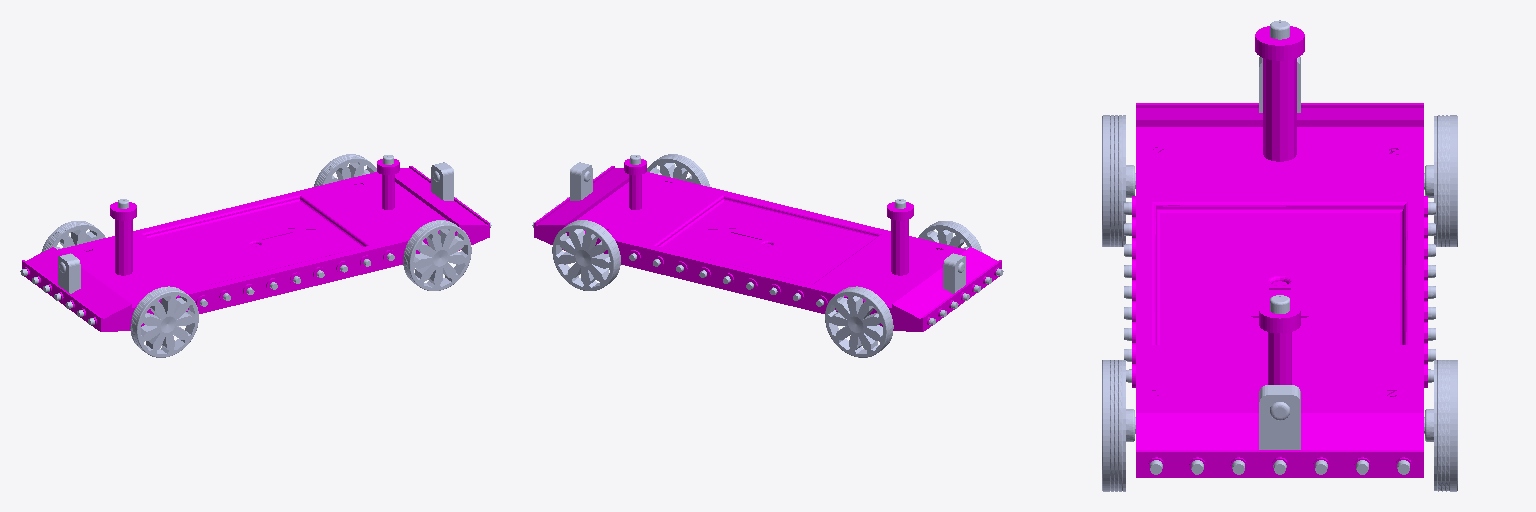
--- Facts derived from the render (not from the file) ---
Views: 3 orthographic renders of the robot side by side, from view 1: azimuth 30°, elevation 25°; view 2: azimuth 150°, elevation 25°; view 3: azimuth 270°, elevation 25°.
Robot: rover_proto_A1_rviz — 15 links, 14 joints (4 continuous, 10 fixed); root link base_link; default pose: all joints at 0.
Visible links, largest first — view 1: Chassis, Wheel_4_Link, Wheel_1_Link, Wheel_2_Link, Wheel_3_Link, Camera_Back_Link, Camera_Fwd_Link; view 2: Chassis, Wheel_3_Link, Wheel_2_Link, Wheel_1_Link, Wheel_4_Link, Camera_Back_Link, Camera_Fwd_Link; view 3: Chassis, Wheel_1_Link, Wheel_2_Link, Wheel_4_Link, Wheel_3_Link, Camera_Fwd_Link, Lights_Fwd_Link, Lights_Right_Link, Lights_Left_Link.
Link boxes in pixels (left/top/right/bottom): Chassis: left=22, top=159, right=489, bottom=331; Wheel_4_Link: left=130, top=286, right=198, bottom=357; Wheel_1_Link: left=403, top=220, right=471, bottom=290; Wheel_2_Link: left=314, top=154, right=376, bottom=186; Wheel_3_Link: left=41, top=221, right=105, bottom=252; Camera_Back_Link: left=58, top=253, right=80, bottom=293; Camera_Fwd_Link: left=431, top=162, right=453, bottom=200; Chassis: left=534, top=159, right=1001, bottom=331; Wheel_3_Link: left=825, top=286, right=893, bottom=357; Wheel_2_Link: left=552, top=220, right=620, bottom=290; Wheel_1_Link: left=647, top=154, right=709, bottom=186; Wheel_4_Link: left=918, top=221, right=982, bottom=252; Camera_Back_Link: left=943, top=253, right=965, bottom=293; Camera_Fwd_Link: left=570, top=162, right=592, bottom=200; Chassis: left=1132, top=26, right=1427, bottom=477; Wheel_1_Link: left=1102, top=360, right=1135, bottom=491; Wheel_2_Link: left=1424, top=360, right=1457, bottom=491; Wheel_4_Link: left=1102, top=115, right=1135, bottom=246; Wheel_3_Link: left=1424, top=115, right=1457, bottom=246; Camera_Fwd_Link: left=1259, top=385, right=1300, bottom=449; Lights_Fwd_Link: left=1150, top=460, right=1409, bottom=474; Lights_Right_Link: left=1124, top=202, right=1131, bottom=382; Lights_Left_Link: left=1428, top=202, right=1435, bottom=382.
Bounding box of the posed robot: 1.03 × 0.432 × 0.295 m (x, y, z).
13 mesh visuals loaded from 13 distinct referenced files (11 binary STL, 2 Collada DAE).

The robot description file, URDF, robot "rover_proto_A1_rviz":
<?xml version="1.0" ?>
<!-- This URDF was automatically created by SolidWorks to URDF Exporter! Originally created by Stephen Brawner ([email redacted]) 
     Commit Version: 1.6.0-4-g7f85cfe  Build Version: 1.6.7995.38578
     For more information, please see http://wiki.ros.org/sw_urdf_exporter -->
<robot
  name="rover_proto_A1_rviz">
  <pose>0.0 0.0 0.0 0.0 0.0 0.0</pose>
  <link name="base_link"/>
  <link
    name="Chassis">
    <inertial>
      <origin
        xyz="-0.00365912647993058 -3.92554968145498E-06 -0.0261956410433819"
        rpy="0 0 0" />
      <mass
        value="17.7896117328331" />
      <inertia
        ixx="0.188123995834319"
        ixy="-3.69133382058458E-06"
        ixz="0.00394291892265975"
        iyy="1.49358440846885"
        iyz="-8.27261031196303E-06"
        izz="1.66880203354025" />
    </inertial>

    <visual>
      <origin
        xyz="0 0 0"
        rpy="0 0 0" />
      <geometry>
        <mesh
          filename="package://line_following_rover/urdf/rover_proto_A1/meshes/Chassis.dae" />
      </geometry>
      <material
        name="red">
        <color
          rgba="1.0 0.0 1.0 1" />
      </material>
    </visual>

    <collision>
      <origin
        xyz="0 0 0"
        rpy="0 0 0" />
      <geometry>
        <mesh
          filename="package://line_following_rover/urdf/rover_proto_A1/meshes/Chassis.STL" />
      </geometry>
    </collision>
  </link>

  <link
    name="Lights_Fwd_Link">
    <inertial>
      <origin
        xyz="0.507527194200393 -3.69511700598624E-06 -0.0223168195436138"
        rpy="0 0 0" />
      <mass
        value="0.0132155007740645" />
      <inertia
        ixx="3.9910662761744E-07"
        ixy="7.75490345241783E-24"
        ixz="-1.19868842711491E-23"
        iyy="3.06977336844872E-07"
        iyz="-1.18562554465934E-23"
        izz="3.06977336844872E-07" />
    </inertial>
    <visual>
      <origin
        xyz="0 0 0"
        rpy="0 0 0" />
      <geometry>
        <mesh
          filename="package://line_following_rover/urdf/rover_proto_A1/meshes/Lights_Fwd_Link.STL" />
      </geometry>
      <material
        name="">
        <color
          rgba="0.792156862745098 0.819607843137255 0.933333333333333 1" />
      </material>
    </visual>

    <!-- <light name='light_source1' type='spot'>
      <pose frame=''>0.25 0 0.25 0 -0.7854 0</pose>
      <attenuation>
        <range>30</range>
        <linear>0.05</linear>
      </attenuation>
      <diffuse>1 0 0 1</diffuse>
      <specular>1 0 0 1</specular>
      <spot>
        <inner_angle>0.3</inner_angle>
        <outer_angle>0.35</outer_angle>
        <falloff>1</falloff>
      </spot>
      <direction>0 0 -1</direction>
    </light> -->

    <collision>
      <origin
        xyz="0 0 0"
        rpy="0 0 0" />
      <geometry>
        <mesh
          filename="package://line_following_rover/urdf/rover_proto_A1/meshes/Lights_Fwd_Link.STL" />
      </geometry>
    </collision>
  </link>

  <joint
    name="Lights_Fwd_Joint"
    type="fixed">
    <origin
      xyz="0 0 0"
      rpy="0 0 0" />
    <parent
      link="Chassis" />
    <child
      link="Lights_Fwd_Link" />
    <axis
      xyz="0 0 0" />
  </joint>
  <link
    name="Lights_Back_Link">
    <inertial>
      <origin
        xyz="-0.510085250925588 -3.69511700598624E-06 -0.0223168195436137"
        rpy="0 0 0" />
      <mass
        value="0.0132155007740645" />
      <inertia
        ixx="3.9910662761744E-07"
        ixy="6.8244111649112E-24"
        ixz="-1.29839861069366E-23"
        iyy="3.06977336844872E-07"
        iyz="-6.13492287643496E-24"
        izz="3.06977336844872E-07" />
    </inertial>
    <visual>
      <origin
        xyz="0 0 0"
        rpy="0 0 0" />
      <geometry>
        <mesh
          filename="package://line_following_rover/urdf/rover_proto_A1/meshes/Lights_Back_Link.STL" />
      </geometry>
      <material
        name="">
        <color
          rgba="0.792156862745098 0.819607843137255 0.933333333333333 1" />
      </material>
    </visual>
    <collision>
      <origin
        xyz="0 0 0"
        rpy="0 0 0" />
      <geometry>
        <mesh
          filename="package://line_following_rover/urdf/rover_proto_A1/meshes/Lights_Back_Link.STL" />
      </geometry>
    </collision>
  </link>
  <joint
    name="Lights_Back_Joint"
    type="fixed">
    <origin
      xyz="0 0 0"
      rpy="0 0 0" />
    <parent
      link="Chassis" />
    <child
      link="Lights_Back_Link" />
    <axis
      xyz="0 0 0" />
  </joint>

  <link
    name="Lidar_Fwd_Link">
    <inertial>
      <origin
        xyz="-2.77555756156289E-17 -2.77555756156289E-17 0.00132574469891017"
        rpy="0 0 0" />
      <mass
        value="0.00718054669235149" />
      <inertia
        ixx="4.06173549617938E-07"
        ixy="-1.78668025637928E-27"
        ixz="-1.49774027075481E-23"
        iyy="4.06693549617938E-07"
        iyz="-2.63696474568856E-26"
        izz="5.54439348186677E-07" />
    </inertial>
    <visual>
      <origin
        xyz="0 0 0"
        rpy="0 0 0" />
      <geometry>
        <mesh
          filename="package://line_following_rover/urdf/rover_proto_A1/meshes/Lidar_Fwd_Link.STL" />
      </geometry>
      <material
        name="">
        <color
          rgba="0.792156862745098 0.819607843137255 0.933333333333333 1" />
      </material>
    </visual>
    <collision>
      <origin
        xyz="0 0 0"
        rpy="0 0 0" />
      <geometry>
        <mesh
          filename="package://line_following_rover/urdf/rover_proto_A1/meshes/Lidar_Fwd_Link.STL" />
      </geometry>
    </collision>
  </link>

  <joint
    name="Lidar_Fwd_Joint"
    type="fixed">
    <origin
      xyz="0.33872 0 0.116"
      rpy="0 0 -1.57" />
    <parent
      link="Chassis" />
    <child
      link="Lidar_Fwd_Link" />
    <axis
      xyz="0 0 0" />
  </joint>

  <link
    name="Lidar_Back_Link">
    <inertial>
      <origin
        xyz="0 -2.77555756156289E-17 0.00132574469891017"
        rpy="0 0 0" />
      <mass
        value="0.00718054669235149" />
      <inertia
        ixx="4.06173549617938E-07"
        ixy="2.38255619983598E-27"
        ixz="-1.74704316295583E-23"
        iyy="4.06693549617938E-07"
        iyz="4.66873926235502E-42"
        izz="5.54439348186677E-07" />
    </inertial>
    <visual>
      <origin
        xyz="0 0 0"
        rpy="0 0 0" />
      <geometry>
        <mesh
          filename="package://line_following_rover/urdf/rover_proto_A1/meshes/Lidar_Back_Link.STL" />
      </geometry>
      <material
        name="">
        <color
          rgba="0.792156862745098 0.819607843137255 0.933333333333333 1" />
      </material>
    </visual>
    <collision>
      <origin
        xyz="0 0 0"
        rpy="0 0 0" />
      <geometry>
        <mesh
          filename="package://line_following_rover/urdf/rover_proto_A1/meshes/Lidar_Back_Link.STL" />
      </geometry>
    </collision>
  </link>

  <joint
    name="Lidar_Back_Joint"
    type="fixed">
    <origin
      xyz="-0.34128 0 0.166"
      rpy="0 0 1.57" />
    <parent
      link="Chassis" />
    <child
      link="Lidar_Back_Link" />
    <axis
      xyz="0 0 0" />
  </joint>

  <link
    name="Camera_Fwd_Link">
    <inertial>
      <origin
        xyz="-0.0197350018270021 3.65896736520543E-08 -0.0158959745479343"
        rpy="0 0 0" />
      <mass
        value="0.113752710585391" />
      <inertia
        ixx="7.31847315721116E-05"
        ixy="3.14172237115925E-12"
        ixz="1.11972038452148E-06"
        iyy="6.00130734763396E-05"
        iyz="-1.75810930148708E-10"
        izz="3.20124877089661E-05" />
    </inertial>
    <visual>
      <origin
        xyz="0 0 0"
        rpy="0 0 0" />
      <geometry>
        <mesh
          filename="package://line_following_rover/urdf/rover_proto_A1/meshes/Camera_Fwd_Link.STL" />
      </geometry>
      <material
        name="">
        <color
          rgba="0.792156862745098 0.819607843137255 0.933333333333333 1" />
      </material>
    </visual>
    <collision>
      <origin
        xyz="0 0 0"
        rpy="0 0 0" />
      <geometry>
        <mesh
          filename="package://line_following_rover/urdf/rover_proto_A1/meshes/Camera_Fwd_Link.STL" />
      </geometry>
    </collision>
  </link>

  <joint
    name="Camera_Fwd_Joint"
    type="fixed">
    <origin
      xyz="0.49872 0 0.046965"
      rpy="0 0 0" />
    <parent
      link="Chassis" />
    <child
      link="Camera_Fwd_Link" />
    <axis
      xyz="0 0 0" />
  </joint>

<!-- Test link for back cam -->
  <link name="Camera_Back_Link_Frame">
    <origin
      xyz="0.0197350018270018 -1.82825367733841E-07 -0.0158959745479384"
      rpy="0 0 0" />

  </link>

  <joint
    name="Camera_Back_Frame_Joint"
    type="fixed">
    <origin
      xyz="-0.50128 0 0.046965"
      rpy="0 0 3.1416" />
    <parent
      link="Chassis" />
    <child
      link="Camera_Back_Link_Frame" />
    <axis
      xyz="0 0 0" />
  </joint>

  <link
    name="Camera_Back_Link">
    <inertial>
      <origin
        xyz="0.0197350018270018 -1.82825367733841E-07 -0.0158959745479384"
        rpy="0 0 0" />
      <mass
        value="0.113752710585391" />
      <inertia
        ixx="7.31847315721118E-05"
        ixy="3.14172236060984E-12"
        ixz="-1.1197203845215E-06"
        iyy="6.00130734763398E-05"
        iyz="1.75810930147711E-10"
        izz="3.20124877089662E-05" />
    </inertial>
    <visual>
      <origin
        xyz="0 0 0"
        rpy="0 0 0" />
      <geometry>
        <mesh
          filename="package://line_following_rover/urdf/rover_proto_A1/meshes/Camera_Back_Link.dae" />
      </geometry>
      <material
        name="">
        <color
          rgba="0.792156862745098 0.819607843137255 0.933333333333333 1" />
      </material>
    </visual>
    <collision>
      <origin
        xyz="0 0 0"
        rpy="0 0 0" />
      <geometry>
        <mesh
          filename="package://line_following_rover/urdf/rover_proto_A1/meshes/Camera_Back_Link.STL" />
      </geometry>
    </collision>
  </link>


  <joint name="base_link_joint" type="fixed">
    <parent link="base_link"/>
    <child link="Chassis"/>
    <origin xyz="0 0 0.0" rpy="0 0 0"/>
  </joint>

  <joint
    name="Camera_Back_Joint"
    type="fixed">
    <origin
      xyz="-0.50128 0 0.046965"
      rpy="0 0 0" />
    <parent
      link="Chassis" />
    <child
      link="Camera_Back_Link" />
    <axis
      xyz="0 0 0" />
  </joint>

  <link
    name="Lights_Right_Link">
    <inertial>
      <origin
        xyz="-0.00127902836259733 -0.183809917679996 -0.0251832122349882"
        rpy="0 0 0" />
      <mass
        value="0.0169913581380829" />
      <inertia
        ixx="3.94685147371978E-07"
        ixy="4.55988347062208E-24"
        ixz="-9.86348436712857E-24"
        iyy="5.13137092650993E-07"
        iyz="-1.19093415939117E-24"
        izz="3.94685147371978E-07" />
    </inertial>
    <visual>
      <origin
        xyz="0 0 0"
        rpy="0 0 0" />
      <geometry>
        <mesh
          filename="package://line_following_rover/urdf/rover_proto_A1/meshes/Lights_Right_Link.STL" />
      </geometry>
      <material
        name="">
        <color
          rgba="0.792156862745098 0.819607843137255 0.933333333333333 1" />
      </material>
    </visual>
    <collision>
      <origin
        xyz="0 0 0"
        rpy="0 0 0" />
      <geometry>
        <mesh
          filename="package://line_following_rover/urdf/rover_proto_A1/meshes/Lights_Right_Link.STL" />
      </geometry>
    </collision>
  </link>

  <joint
    name="Lights_Right_Joint"
    type="fixed">
    <origin
      xyz="0 0 0"
      rpy="0 0 0" />
    <parent
      link="Chassis" />
    <child
      link="Lights_Right_Link" />
    <axis
      xyz="0 0 0" />
  </joint>

  <link
    name="Lights_Left_Link">
    <inertial>
      <origin
        xyz="-0.00127902836259736 0.183802527445984 -0.0251832122349882"
        rpy="0 0 0" />
      <mass
        value="0.0169913581380829" />
      <inertia
        ixx="3.94685147371979E-07"
        ixy="-2.7969213597333E-24"
        ixz="-1.05320496259739E-23"
        iyy="5.13137092650994E-07"
        iyz="5.48402625179042E-25"
        izz="3.94685147371979E-07" />
    </inertial>
    <visual>
      <origin
        xyz="0 0 0"
        rpy="0 0 0" />
      <geometry>
        <mesh
          filename="package://line_following_rover/urdf/rover_proto_A1/meshes/Lights_Left_Link.STL" />
      </geometry>
      <material
        name="">
        <color
          rgba="0.792156862745098 0.819607843137255 0.933333333333333 1" />
      </material>
    </visual>
    <collision>
      <origin
        xyz="0 0 0"
        rpy="0 0 0" />
      <geometry>
        <mesh
          filename="package://line_following_rover/urdf/rover_proto_A1/meshes/Lights_Left_Link.STL" />
      </geometry>
    </collision>
  </link>

  <joint
    name="Lights_Left_Joint"
    type="fixed">
    <origin
      xyz="0 0 0"
      rpy="0 0 0" />
    <parent
      link="Chassis" />
    <child
      link="Lights_Left_Link" />
    <axis
      xyz="0 0 0" />
  </joint>

  <!-- Wheel Back Right -->

  <link
    name="Wheel_4_Link">
    <inertial>
      <origin
        xyz="5.55111512312578E-16 2.22044604925031E-16 -0.0168532279865622"
        rpy="0 0 0" />
      <mass
        value="0.456818382000865" />
      <inertia
        ixx="0.000768196974353752"
        ixy="-7.84270618276785E-19"
        ixz="-6.61935099916422E-19"
        iyy="0.000768196974353751"
        iyz="-2.61489639644202E-19"
        izz="0.00134492456127817" />
    </inertial>
    <visual>
      <origin
        xyz="0 0 0"
        rpy="0 0 0" />
      <geometry>
        <mesh
          filename="package://line_following_rover/urdf/rover_proto_A1/meshes/Wheel_4_Link.STL" />
      </geometry>
      <material
        name="">
        <color
          rgba="0.792156862745098 0.819607843137255 0.933333333333333 1" />
      </material>
    </visual>
    <collision>
      <origin
        xyz="0 0 0"
        rpy="0 0 0" />
      <geometry>
        <mesh
          filename="package://line_following_rover/urdf/rover_proto_A1/meshes/Wheel_4_Link.STL" />
      </geometry>
    </collision>
  </link>

  <joint
    name="Wheel_4_Joint"
    type="continuous">
    <origin
      xyz="-0.35128 -0.215 -0.04"
      rpy="1.5708 0 0" />
    <parent
      link="Chassis" />
    <child
      link="Wheel_4_Link" />
    <axis
      xyz="0 0 -1" />
    <limit
      effort="10"
      velocity="12" />
    <dynamics
      damping="0.25"
      friction="0.5" />
  </joint>

  <!-- Wheel Back Left -->
  <link
    name="Wheel_3_Link">
    <inertial>
      <origin
        xyz="-5.55111512312578E-16 -2.77555756156289E-16 0.0168532279865622"
        rpy="0 0 0" />
      <mass
        value="0.456818382000868" />
      <inertia
        ixx="0.000768196974353756"
        ixy="-1.88597179662025E-19"
        ixz="-4.93381505459919E-19"
        iyy="0.000768196974353758"
        iyz="-2.11063331529539E-19"
        izz="0.00134492456127819" />
    </inertial>
    <visual>
      <origin
        xyz="0 0 0"
        rpy="0 0 0" />
      <geometry>
        <mesh
          filename="package://line_following_rover/urdf/rover_proto_A1/meshes/Wheel_3_Link.STL" />
      </geometry>
      <material
        name="">
        <color
          rgba="0.792156862745098 0.819607843137255 0.933333333333333 1" />
      </material>
    </visual>
    <collision>
      <origin
        xyz="0 0 0"
        rpy="0 0 0" />
      <geometry>
        <mesh
          filename="package://line_following_rover/urdf/rover_proto_A1/meshes/Wheel_3_Link.STL" />
      </geometry>
    </collision>
  </link>

  <joint
    name="Wheel_3_Joint"
    type="continuous">
    <origin
      xyz="-0.35128 0.21499 -0.04"
      rpy="1.5708 0 0" />
    <parent
      link="Chassis" />
    <child
      link="Wheel_3_Link" />
    <axis
      xyz="0 0 -1" />
    <limit
      effort="10"
      velocity="12" />
    <dynamics
      damping="0.25"
      friction="0.5" />
  </joint>

  <!-- Wheel Front Left -->
  <link
    name="Wheel_2_Link">  
    <inertial>
      <origin
        xyz="-4.9960036108132E-16 2.22044604925031E-16 0.0168532279865622"
        rpy="0 0 0" />
      <mass
        value="0.456818382000864" />
      <inertia
        ixx="0.000768196974353751"
        ixy="1.02115446619666E-18"
        ixz="-7.60710993935944E-19"
        iyy="0.000768196974353751"
        iyz="3.64043121106115E-19"
        izz="0.00134492456127817" />
    </inertial>
    <visual>
      <origin
        xyz="0 0 0"
        rpy="0 0 0" />
      <geometry>
        <mesh
          filename="package://line_following_rover/urdf/rover_proto_A1/meshes/Wheel_2_Link.STL" />
      </geometry>
      <material
        name="">
        <color
          rgba="0.792156862745098 0.819607843137255 0.933333333333333 1" />
      </material>
    </visual>
    <collision>
      <origin
        xyz="0 0 0"
        rpy="0 0 0" />
      <geometry>
        <mesh
          filename="package://line_following_rover/urdf/rover_proto_A1/meshes/Wheel_2_Link.STL" />
      </geometry>
    </collision>
  </link>

  <joint
    name="Wheel_2_Joint"
    type="continuous">
    <origin
      xyz="0.34872 0.215 -0.04"
      rpy="1.5708 0 0" />
    <parent
      link="Chassis" />
    <child
      link="Wheel_2_Link" />
    <axis
      xyz="0 0 -1" />
    <limit
      effort="10"
      velocity="12" />
    <dynamics
      damping="0.25"
      friction="0.5" />
  </joint>

  <!-- Wheel Front Right -->
  <link
    name="Wheel_1_Link">
    <inertial>
      <origin
        xyz="4.44089209850063E-16 -2.77555756156289E-16 -0.0168532279865622"
        rpy="0 0 0" />
      <mass
        value="0.456818382000864" />
      <inertia
        ixx="0.000768196974353751"
        ixy="4.13590306270488E-21"
        ixz="-4.91914176943726E-19"
        iyy="0.000768196974353752"
        iyz="2.33003390471223E-19"
        izz="0.00134492456127817" />
    </inertial>
    <visual>
      <origin
        xyz="0 0 0"
        rpy="0 0 0" />
      <geometry>
        <mesh
          filename="package://line_following_rover/urdf/rover_proto_A1/meshes/Wheel_1_Link.STL" />
      </geometry>
      <material
        name="">
        <color
          rgba="0.792156862745098 0.819607843137255 0.933333333333333 1" />
      </material>
    </visual>
    <collision>
      <origin
        xyz="0 0 0"
        rpy="0 0 0" />
      <geometry>
        <mesh
          filename="package://line_following_rover/urdf/rover_proto_A1/meshes/Wheel_1_Link.STL" />
      </geometry>
    </collision>
  </link>

  <joint
    name="Wheel_1_Joint"
    type="continuous">
    <origin
      xyz="0.34872 -0.215 -0.04"
      rpy="1.5708 0 0" />
    <parent
      link="Chassis" />
    <child
      link="Wheel_1_Link" />
    <axis
      xyz="0 0 -1" />
    <limit
      effort="10"
      velocity="12" />
    <dynamics
      damping="0.25"
      friction="0.5" />
  </joint>



  <!--    /////////////// Fwd Lights Setup /////////////// -->
<!-- 
  <gazebo reference="Lights_Fwd_Link">
    <light name="light_source1_fwd" type="spot">   
      <pose>0.507527194200393 -3.69511700598624E-06 -0.0223168195436138 0 -0.7854 0</pose>
      <attenuation>
        <range>20</range>
        <linear>0.05</linear>
      </attenuation>
      <diffuse>0.5 1 1 1</diffuse>
      <specular>0 1 1 1</specular>
      <spot>
        <inner_angle>0.2</inner_angle>
        <outer_angle>1.0</outer_angle>
        <falloff>1</falloff>
      </spot>
      <direction>0 0 -1</direction>
    </light>

    <light name="light_source2_fwd" type="spot">
      <pose>0.507527194200393 -3.69511700598624E-06 -0.0223168195436138 0 -0.7854 0</pose>
      <attenuation>
        <range>20</range>
        <linear>0.05</linear>
      </attenuation>
      <diffuse>0.55 1 .58 1</diffuse>
      <specular>0.55 1 .58 1</specular>
      <spot>
        <inner_angle>0.2</inner_angle>
        <outer_angle>0.5</outer_angle>
        <falloff>1</falloff>
      </spot>
      <direction>1 0 -1</direction>
    </light>


    <plugin name='Lights_Fwd_Link' filename='libLedPlugin.so'>
      <light>
        <light>Lights_Fwd_Link/light_source1_fwd</light>
        <light>Lights_Fwd_Link/light_source2_fwd</light>
        <duration>0.0</duration>
        <interval>0.0</interval>
        <color>0 1 1</color>
      </light>
    </plugin>
  </gazebo> -->





  <!-- ////////////////////////  LIDAAAAAR Fwd//////////////-->
  <gazebo reference="Lidar_Fwd_Link">
      <sensor name="gazebo_lidar_fwd" type="ray">
      <visualize>true</visualize>
      <update_rate>12.0</update_rate>

      <plugin filename="libgazebo_ros_ray_sensor.so" name="gazebo_lidar_fwd">
        <ros>
            <remapping>~/out:=lidar_scan_fwd</remapping>
        </ros>
        <output_type>sensor_msgs/LaserScan</output_type>
        <frame_name>Lidar_Fwd_Link</frame_name>
      </plugin>

      <ray>
          <scan>
            <horizontal>
                <samples>360</samples>
                <resolution>1</resolution>
                <min_angle>0.00</min_angle>
                <!-- <max_angle>3.14</max_angle> -->
                <max_angle>0.0</max_angle>
            </horizontal>
          </scan>
          <range>
            <min>0.120</min>
            <max>3.5</max>
            <resolution>0.015</resolution>
          </range>
          <noise>
            <type>gaussian</type>
            <mean>0.0</mean>
            <stddev>0.01</stddev>
          </noise>
      </ray>
      </sensor>
      <material>Gazebo/Red</material>
  </gazebo> 

  <!-- ////////////////////////  LIDAAAAAR Back  //////////////-->

  <gazebo reference="Lidar_Back_Link">
    <sensor name="gazebo_lidar_back" type="ray">
    <visualize>true</visualize>
    <update_rate>12.0</update_rate>

    <plugin filename="libgazebo_ros_ray_sensor.so" name="gazebo_lidar_back">
      <ros>
          <remapping>~/out:=/lidar_scan_back</remapping>
          <!-- <remapping>~/out:=scan</remapping>  -->
      </ros>
      <output_type>sensor_msgs/LaserScan</output_type>
      <frame_name>Lidar_Back_Link</frame_name>
    </plugin>

    <ray>
        <scan>
          <horizontal>
              <samples>360</samples>
              <resolution>1</resolution>
              <min_angle>0.00</min_angle>
              <max_angle>6.28</max_angle>
          </horizontal>
        </scan>
        <range>
          <min>0.120</min>
          <max>3.5</max>
          <resolution>0.015</resolution>
        </range>
        <noise>
          <type>gaussian</type>
          <mean>0.0</mean>
          <stddev>0.01</stddev>
        </noise>
    </ray>
    </sensor>
    <material>Gazebo/Red</material>
  </gazebo> 


<!-- /////////////////  CAMERAAAAAAAAAAA Fwd/////////////////-->
  <!-- refeerance should be same as the link name that is in ref to we are adding this sensor-->
  <gazebo reference="Camera_Fwd_Link">  
    <sensor type="camera" name="camera_scan_fwd">
      <alwaysOn>true</alwaysOn>
      <visualize>true</visualize>
      <update_rate>30.0</update_rate>

      <camera name="cam_fwd">
        <horizontal_fov>1.3962634</horizontal_fov>
        <image>
          <width>800</width>
          <height>800</height>
          <format>R8G8B8</format>
        </image>
        <clip>
          <near>0.02</near>
          <far>300</far>
        </clip>
        <noise>
          <type>gaussian</type>
          <mean>0.0</mean>
          <stddev>0.007</stddev>
        </noise>
      </camera>

      <plugin name="camera_driver_fwd" filename="libgazebo_ros_camera.so">
          <updateRate>0.0</updateRate>
          <cameraName>/camera_fwd</cameraName>
          <imageTopicName>image_raw</imageTopicName>
          <cameraInfoTopicName>camera_info</cameraInfoTopicName>
          <frameName>Camera_Fwd_Link</frameName>
          <hackBaseline>0.07</hackBaseline>
      </plugin>
    </sensor>
    <material>Gazebo/Blue</material>
  </gazebo>

  <!-- /////////////////  CAMERAAAAAAAAAAA  back///////// Had to add pseudolink to face backwards////////-->


  <gazebo reference="Camera_Back_Link_Frame">
    <sensor type="camera" name="camera_scan_back">
      <alwaysOn>true</alwaysOn>
      <visualize>true</visualize>
      <update_rate>30.0</update_rate>

      <camera name="cam_back">
        <horizontal_fov>1.3962634</horizontal_fov>
        <image>
          <width>800</width>
          <height>800</height>
          <format>R8G8B8</format>
        </image>
        <clip>
          <near>0.02</near>
          <far>300</far>
        </clip>
        <noise>
          <type>gaussian</type>
          <mean>0.0</mean>
          <stddev>0.007</stddev>
        </noise>
      </camera>

      <plugin name="camera_driver_bck" filename="libgazebo_ros_camera.so">
          <updateRate>0.0</updateRate>
          <cameraName>/camera_back</cameraName>
          <imageTopicName>image_raw</imageTopicName>
          <cameraInfoTopicName>camera_info</cameraInfoTopicName>
          <frameName>Camera_Back_Link_Frame</frameName>
          <hackBaseline>0.07</hackBaseline>
      </plugin>
    </sensor>
    <material>Gazebo/Blue</material>
  </gazebo>


  <gazebo>
    <plugin name='diff_drive_fwd' filename='libgazebo_ros_diff_drive.so'>
        <left_joint>Wheel_2_Joint</left_joint>
        <right_joint>Wheel_1_Joint</right_joint>
        <wheel_separation>0.43</wheel_separation>
        <wheel_diameter>0.16</wheel_diameter>
        <max_wheel_torque>30</max_wheel_torque>
        <max_wheel_acceleration>1.50</max_wheel_acceleration>

        <publish_odom>false</publish_odom>
        <publish_odom_tf>false</publish_odom_tf>
        <publish_wheel_tf>false</publish_wheel_tf>

        <!-- <odometry_topic>odom</odometry_topic> -->
        <!-- <odometry_frame>odom_fwd</odometry_frame> -->
        <!-- <odometry_frame>base_link</odometry_frame> -->
        <robot_base_frame>base_link</robot_base_frame>
    </plugin>

    <plugin name='diff_drive_back' filename='libgazebo_ros_diff_drive.so'>
        <left_joint>Wheel_3_Joint</left_joint>
        <right_joint>Wheel_4_Joint</right_joint>
        <wheel_separation>0.43</wheel_separation>
        <wheel_diameter>0.16</wheel_diameter>
        <max_wheel_torque>30</max_wheel_torque>
        <max_wheel_acceleration>1.50</max_wheel_acceleration>

        <publish_odom>true</publish_odom>
        <publish_odom_tf>true</publish_odom_tf>
        <publish_wheel_tf>true</publish_wheel_tf>

        <odometry_topic>odom</odometry_topic>
        <odometry_frame>odom</odometry_frame>
        <!-- <odometry_frame>base_link</odometry_frame> -->
        <robot_base_frame>base_link</robot_base_frame>
    </plugin>
  </gazebo>


</robot>
